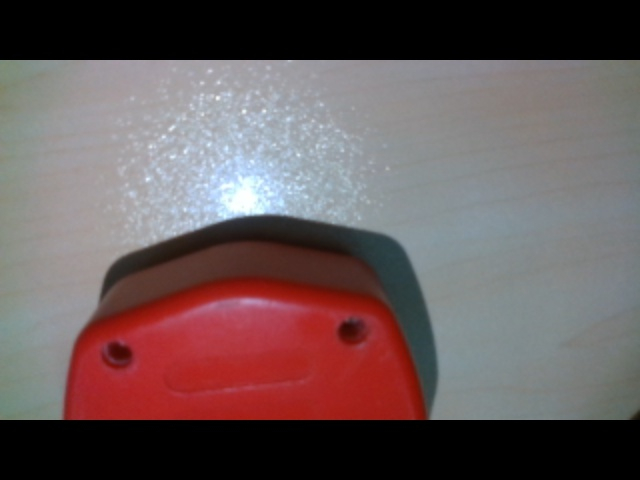Screw holes: (331, 314, 375, 351), (100, 341, 138, 370)
